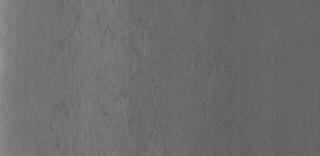silk spot: (59, 11, 169, 144)
